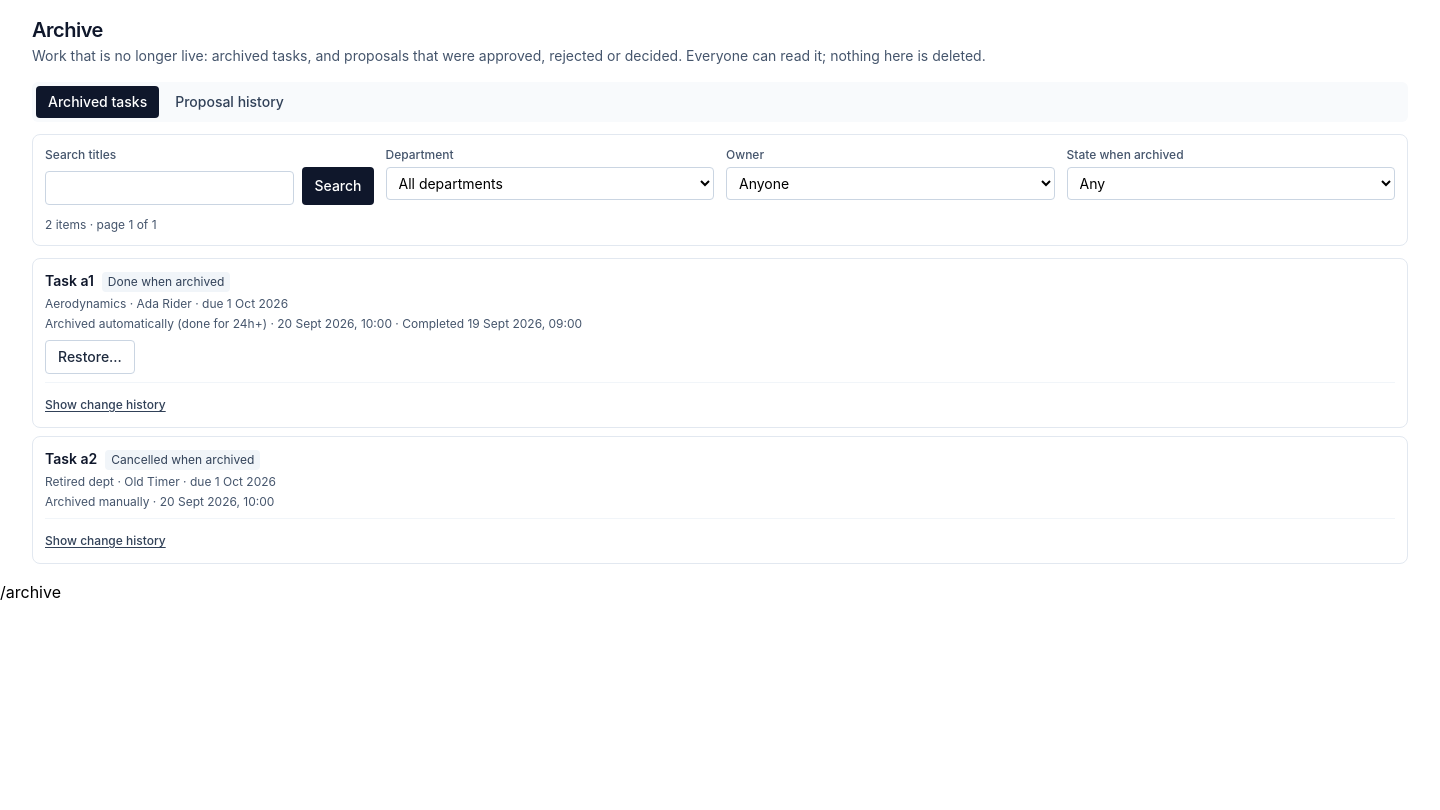
it: reading needs no write privilege; restoring needs the right one › explains that restoring a finished task reopens it and keeps its history, then restores
Click the button with test id "restore-a1" at [90, 357], box x1=45 y1=340 x2=135 y2=374
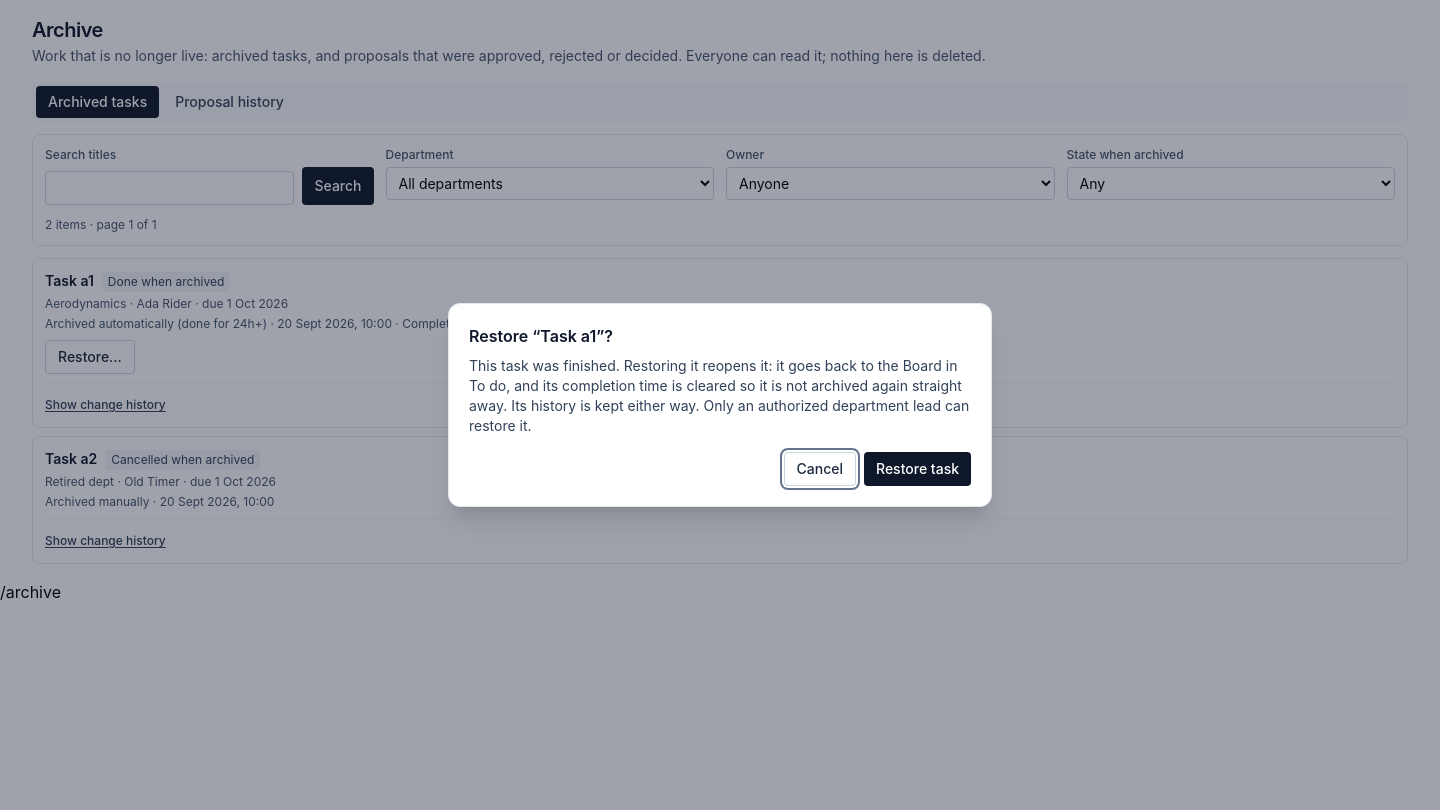
Result: the heading "Restore “Task a1”?" is shown at x1=469 y1=326 x2=613 y2=346
Result: the text "reopens it: it goes back to the Board in To do" is shown at x1=469 y1=357 x2=962 y2=414
Result: the text "Its history is kept" is shown at x1=469 y1=397 x2=969 y2=434
Click the button with test id "restore-confirm" at [918, 469], box x1=864 y1=452 x2=971 y2=486
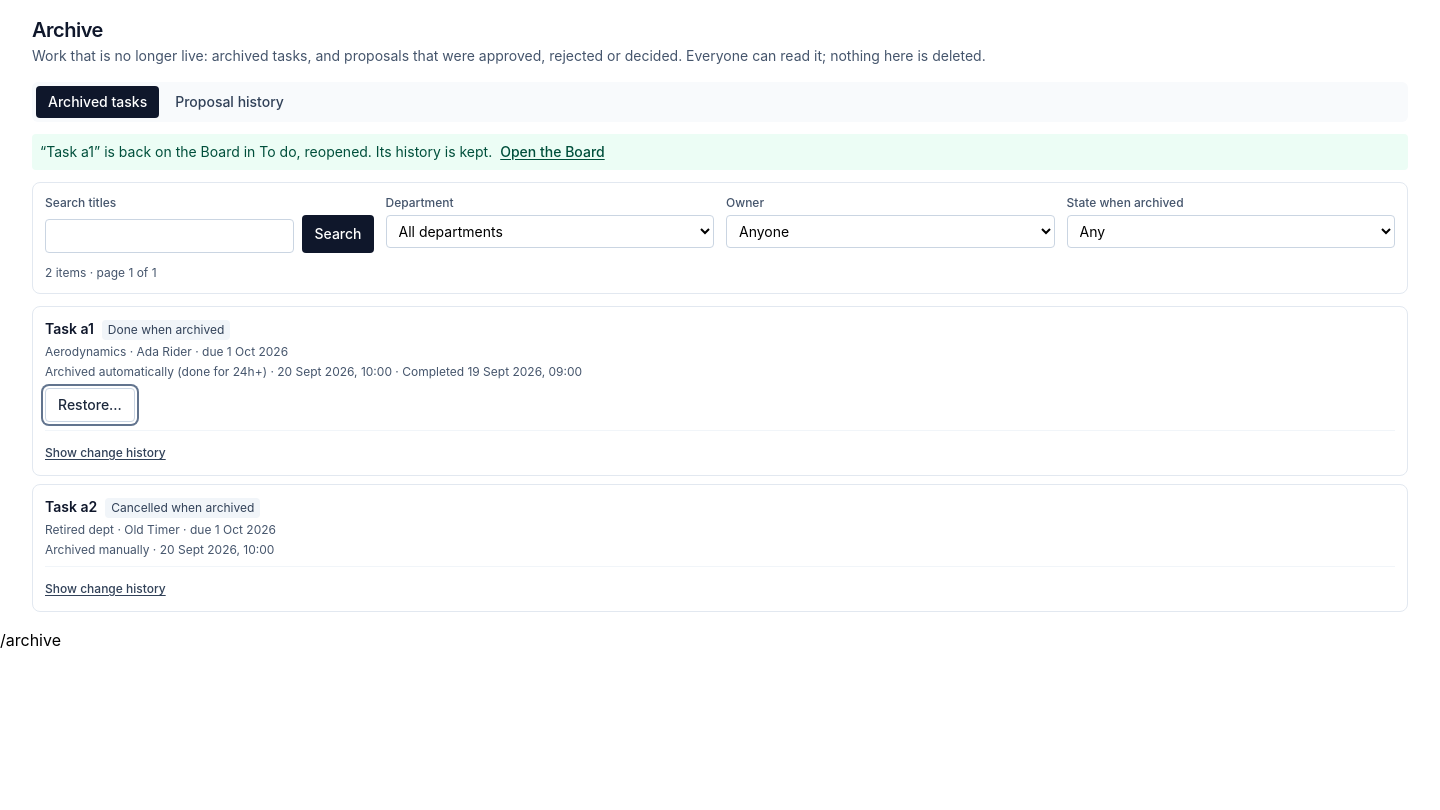
Result: the message with test id "archive-message" shows "reopened" at x1=40 y1=143 x2=492 y2=160
